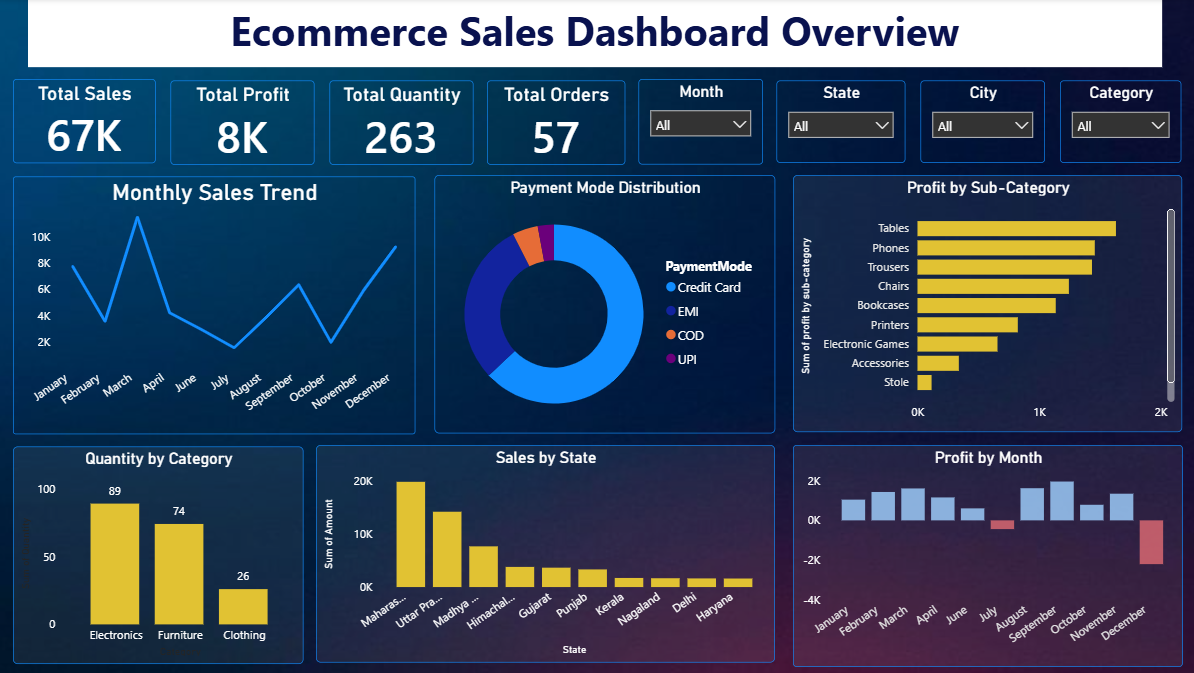

What the dashboard file says about the page in this screenshot:
{"tool":"powerbi","page":{"name":"Page 2","canvas":[1280,720],"ordinal":0},"visuals":[{"type":"textbox","box":[38.2,0,1202.5,73.2],"z":0},{"type":"columnChart","title":"Profit by Month","fields":{"Category":["orders.Order Date.Variation.Date Hierarchy.Month"],"Y":["Sum(details.Profit)"]},"box":[849.4,474,413.6,235.4],"z":1000},{"type":"clusteredBarChart","title":"Profit by Sub-Category","fields":{"Category":["details.Sub-Category"],"Y":["Sum(details.Profit)"]},"box":[850,187.1,412.9,272.6],"z":2000},{"type":"clusteredColumnChart","title":"Quantity by Category","fields":{"Category":["details.Category"],"Y":["Sum(details.Quantity)"]},"box":[22.6,475.8,308.1,230.6],"z":3000},{"type":"lineChart","title":"Monthly Sales Trend","fields":{"Category":["orders.Order Date.Variation.Date Hierarchy.Month"],"Y":["Sum(details.Amount)"]},"box":[22.2,188.9,426.7,273.3],"z":4000},{"type":"clusteredColumnChart","title":"Sales by State","fields":{"Category":["orders.State"],"Y":["Sum(details.Amount)"]},"box":[343.6,474,486.7,230.6],"z":5000},{"type":"donutChart","title":"Payment Mode Distribution","fields":{"Category":["details.PaymentMode"],"Y":["Sum(details.Amount)"]},"box":[469.4,187.1,361.3,274.2],"z":6000},{"type":"cardVisual","title":"Total Sales","fields":{"Data":["Sum(details.Amount)"]},"box":[22.3,85.9,151.1,89.1],"z":7000},{"type":"cardVisual","title":"Total Profit","fields":{"Data":["Sum(details.Profit)"]},"box":[189.3,87.5,152.7,89.1],"z":8000},{"type":"cardVisual","title":"Total Quantity","fields":{"Data":["Sum(details.Quantity)"]},"box":[357.9,87.5,152.7,89.1],"z":9000},{"type":"slicer","title":"Month","fields":{"Values":["orders.Order Date.Variation.Date Hierarchy.Month"]},"box":[685.6,85.9,132,90.7],"z":10000},{"type":"slicer","title":"State","fields":{"Values":["orders.State"]},"box":[831.9,87.5,136.8,87.5],"z":11000},{"type":"cardVisual","title":"Total Orders","fields":{"Data":["details.Total Orders"]},"box":[524.9,87.5,146.3,89.1],"z":12000},{"type":"slicer","title":"City","fields":{"Values":["orders.City"]},"box":[984.6,87.5,132,87.5],"z":13000},{"type":"slicer","title":"Category","fields":{"Values":["details.Category"]},"box":[1132.5,87.5,128.8,87.5],"z":14000}]}

Visuals, with their boxes in screenshot pixels (x1, y1, x2, y2), scaled from the page's 1280x720 canvas onto the 1194x673 screenshot:
textbox: region(36, 0, 1157, 68)
"Profit by Month" columnChart: region(792, 443, 1178, 663)
"Profit by Sub-Category" clusteredBarChart: region(793, 175, 1178, 430)
"Quantity by Category" clusteredColumnChart: region(21, 445, 308, 660)
"Monthly Sales Trend" lineChart: region(21, 177, 419, 432)
"Sales by State" clusteredColumnChart: region(321, 443, 775, 659)
"Payment Mode Distribution" donutChart: region(438, 175, 775, 431)
"Total Sales" cardVisual: region(21, 80, 162, 164)
"Total Profit" cardVisual: region(177, 82, 319, 165)
"Total Quantity" cardVisual: region(334, 82, 476, 165)
"Month" slicer: region(640, 80, 763, 165)
"State" slicer: region(776, 82, 904, 164)
"Total Orders" cardVisual: region(490, 82, 626, 165)
"City" slicer: region(918, 82, 1042, 164)
"Category" slicer: region(1056, 82, 1177, 164)
